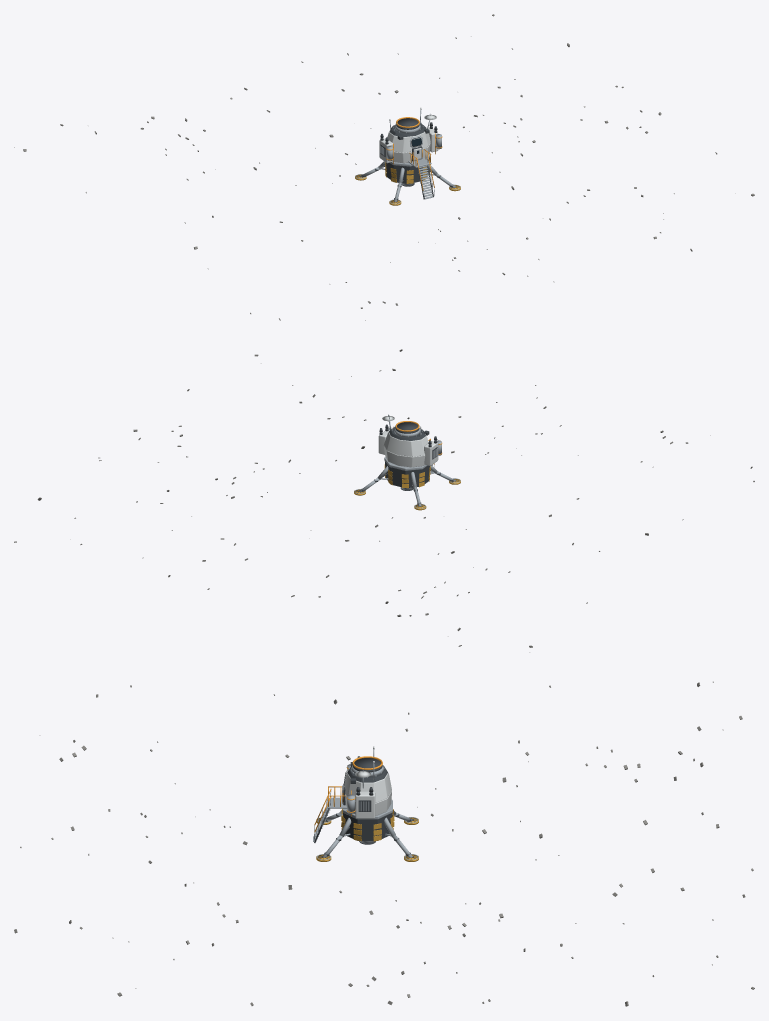
The model's file is CosmoRoket.fbx.
The picture shows the model from 3 angles, top to bottom: view 1: azimuth 30°, elevation 25°; view 2: azimuth 150°, elevation 25°; view 3: azimuth 270°, elevation 25°; orthographic projection. The views are drawn at different scales.
Visible parts, largest first — view 1: no part large enough to name; view 2: Tapered crew cabin upper, Eight-sided structural descent stage; view 3: Tapered crew cabin upper, Eight-sided structural descent stage.
Part boxes in pixels (x1,y1,x2,y2): Tapered crew cabin upper: (384, 431, 428, 456); Eight-sided structural descent stage: (385, 461, 429, 488); Tapered crew cabin upper: (344, 766, 391, 802); Eight-sided structural descent stage: (343, 813, 392, 840).
Bounding box in the file's own units: 5562 × 738 × 5381.
